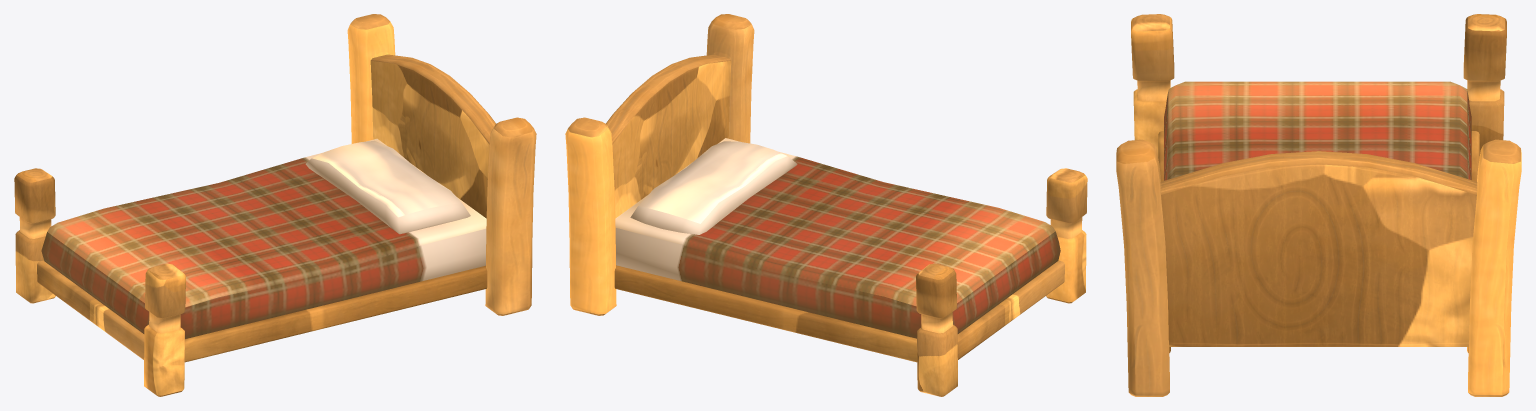
File: SM_Bed.fbx
3 views of the same model, side by side, from view 1: azimuth 30°, elevation 25°; view 2: azimuth 150°, elevation 25°; view 3: azimuth 270°, elevation 25° (orthographic). The views are drawn at different scales.
Parts seen in each view (by area): view 1: SM_Bed_LOD0; view 2: SM_Bed_LOD0; view 3: SM_Bed_LOD0.
Part boxes in pixels (bbox=[...]): SM_Bed_LOD0: bbox=[14, 14, 536, 396]; SM_Bed_LOD0: bbox=[565, 14, 1087, 396]; SM_Bed_LOD0: bbox=[1116, 14, 1521, 396].
Bounding box in the file's own units: 234 × 173 × 113.
